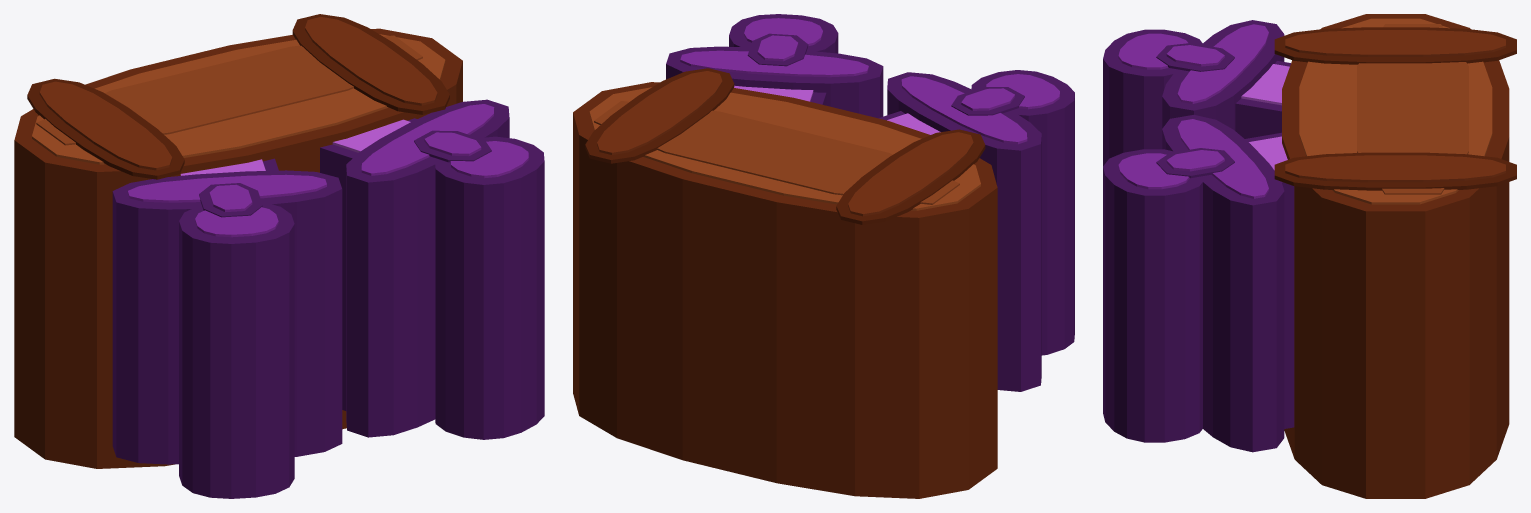
File: bag_espadas_ametista.fbx
The picture shows the model from 3 angles, left to right: view 1: azimuth 30°, elevation 25°; view 2: azimuth 150°, elevation 25°; view 3: azimuth 270°, elevation 25°; orthographic projection. The views are drawn at different scales.
Parts seen in each view (by area): view 1: bag_espadas_ametista_mochila; view 2: bag_espadas_ametista_mochila; view 3: bag_espadas_ametista_mochila.
Part boxes in pixels (<box>): bag_espadas_ametista_mochila: <box>14,14,544,498</box>; bag_espadas_ametista_mochila: <box>573,14,1074,498</box>; bag_espadas_ametista_mochila: <box>1103,14,1516,498</box>.
Bounding box in the file's own units: 2.71 × 1.89 × 2.4.
Materials: 1 (1 with a texture image).
